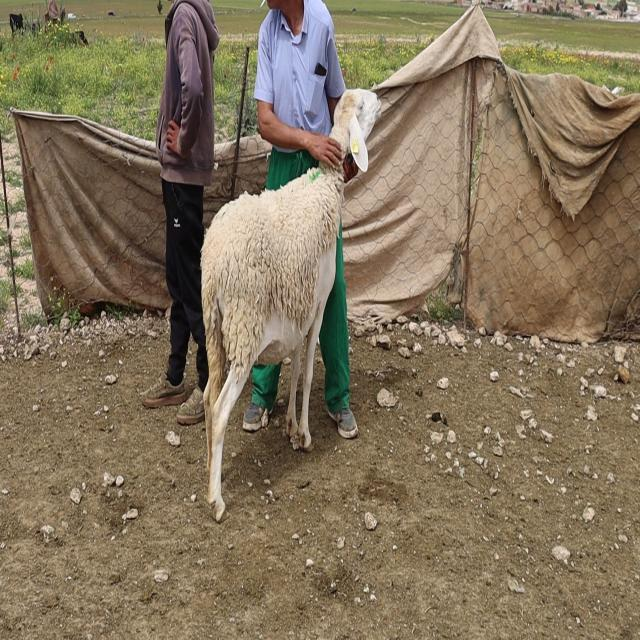Score_4: (201, 168, 344, 521)
